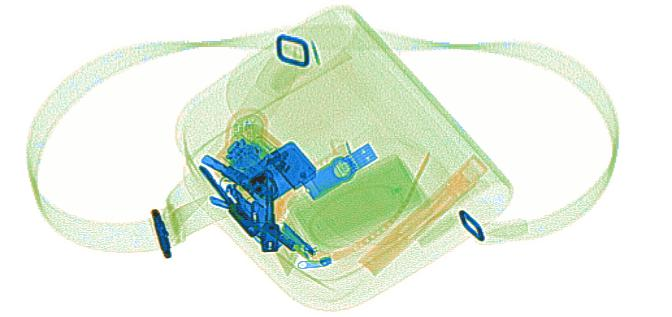USBFlashDisk: (302, 142, 379, 201)
lighter: (239, 136, 319, 206)
